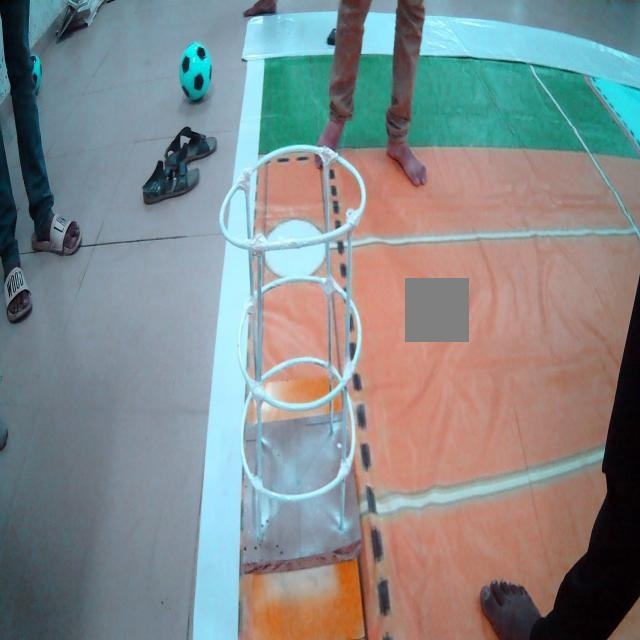silo: (222, 137, 362, 547)
